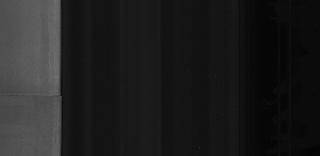welding line: (5, 90, 72, 102)
